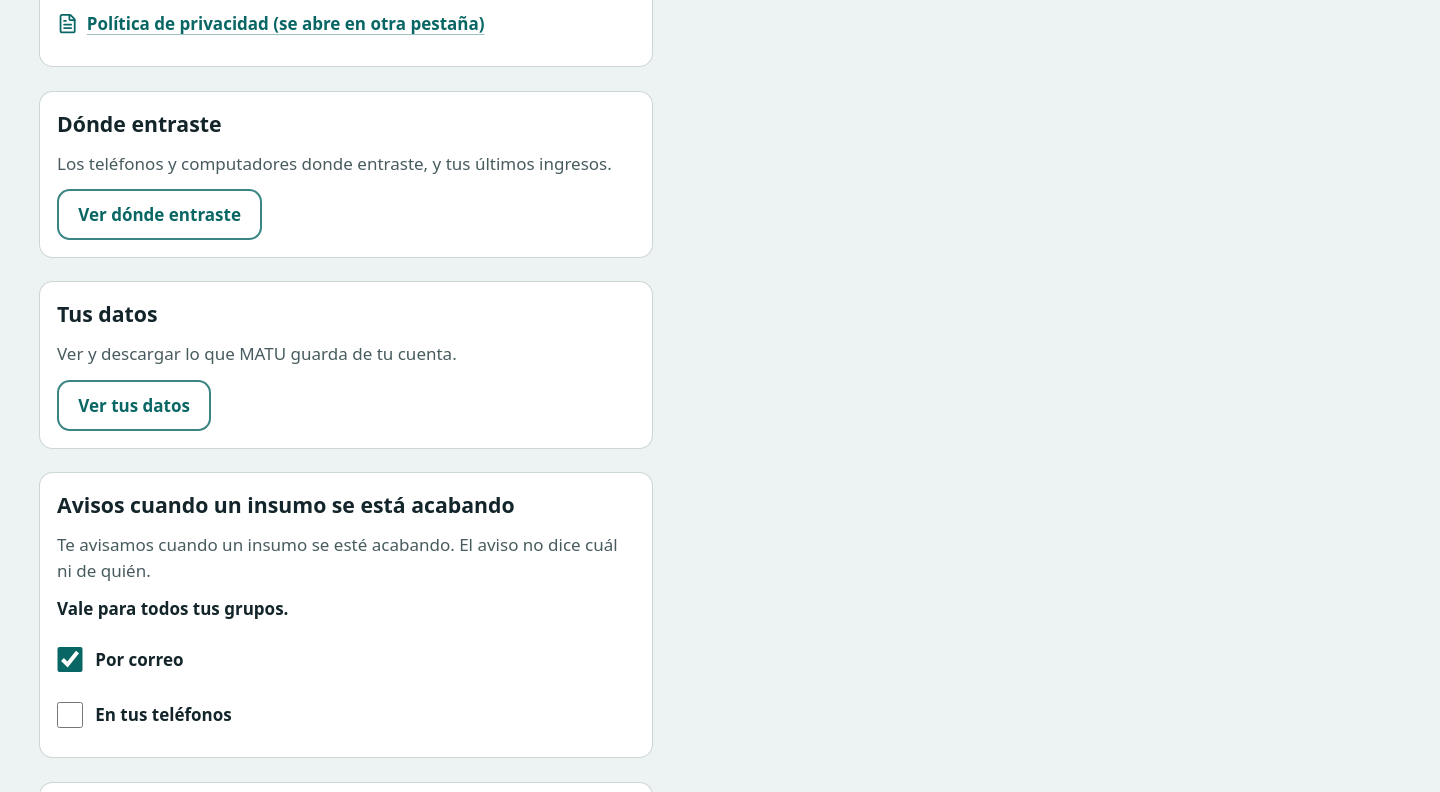
MATU-107 (54-H3): un solo GET por visita, y la ayuda del límite bajo la bajada › «Tus datos»: reenfocar no repite el GET, y volver a tu cuenta tampoco
(page scrolled)
Click the button "Ver tus datos". click: (134, 405)
box: [57,380,211,431]
(page scrolled)
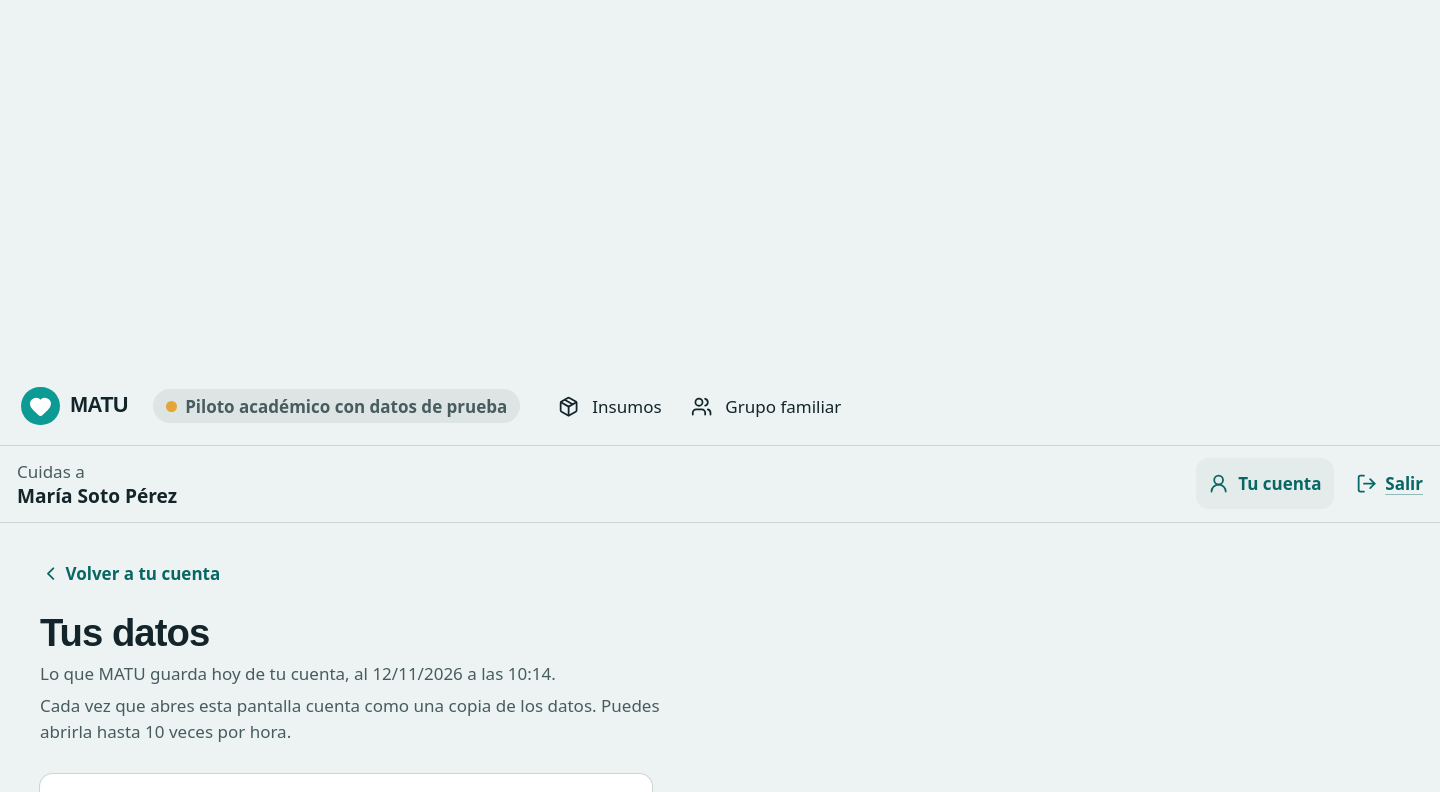
Click the button "Volver a tu cuenta". click: (134, 574)
box: [40,548,229,600]
(page scrolled)
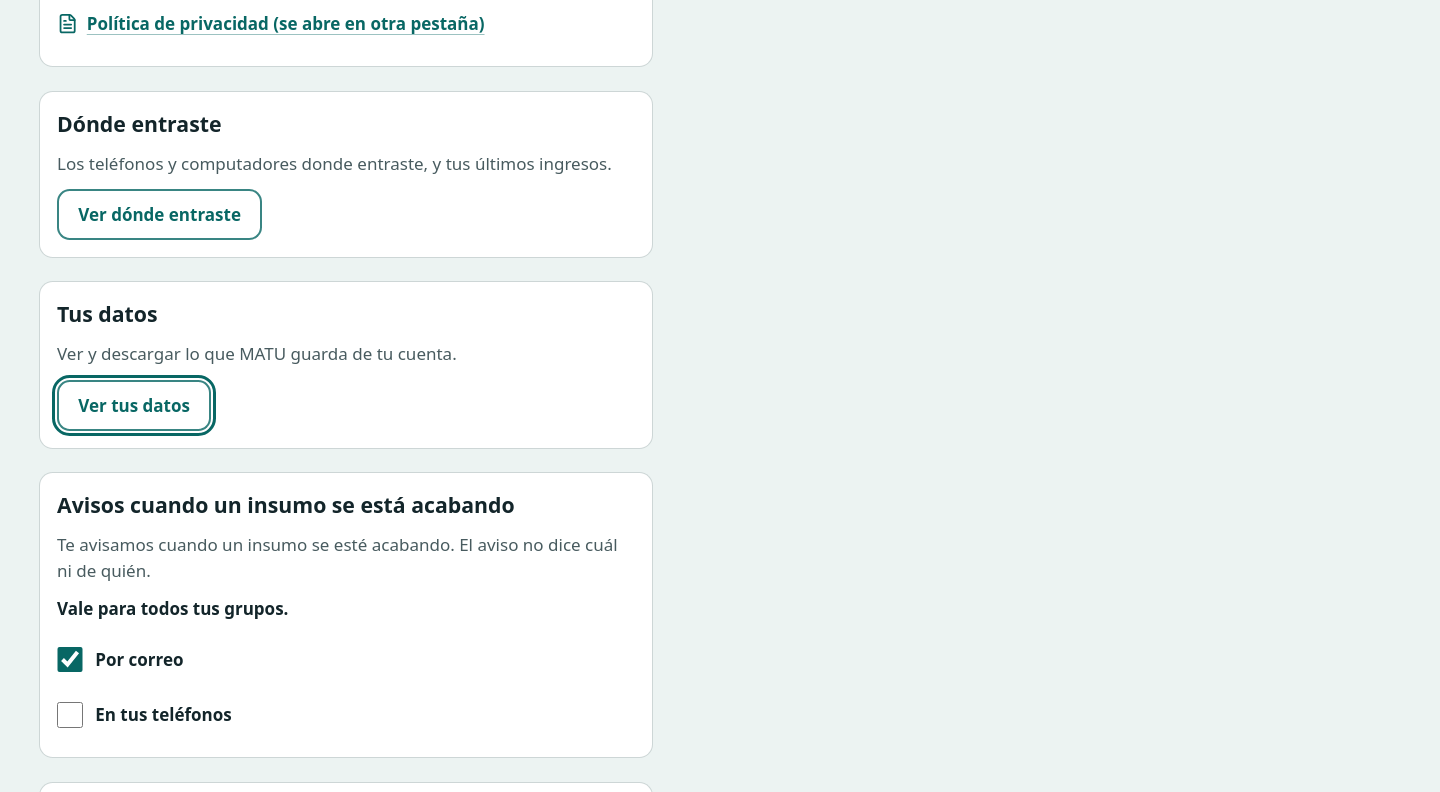
Result: the button "Ver tus datos" is shown at [57,380,211,431]
